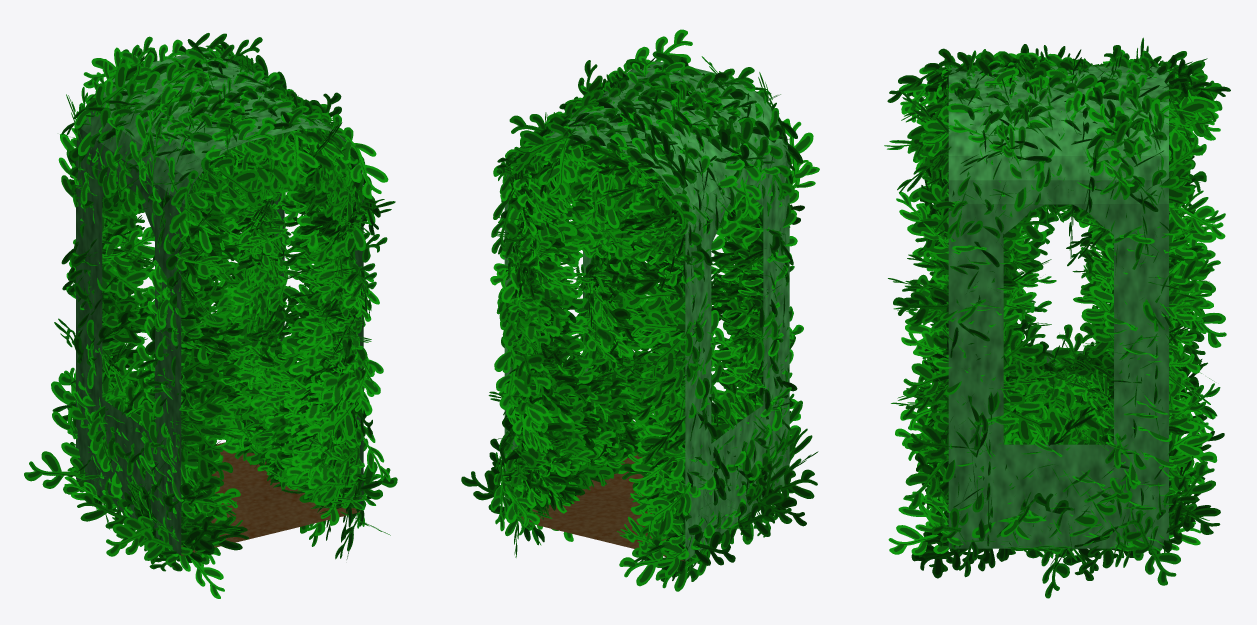
The model's file is StraightV2_3.fbx.
3 renders of one model, left to right at view 1: azimuth 30°, elevation 25°; view 2: azimuth 150°, elevation 25°; view 3: azimuth 270°, elevation 25°, orthographic. The views are drawn at different scales.
Parts seen in each view (by area): view 1: StraightV2.3, StraightV2.3|Plane|Dupli|46, StraightV2.3|Plane|Dupli|1686, StraightV2.3|Plane|Dupli|1282, StraightV2.3|Plane|Dupli|744, StraightV2.3|Plane|Dupli|859, StraightV2.3|Plane|Dupli|1788, StraightV2.3|Plane|Dupli|37, StraightV2.3|Plane|Dupli|764, StraightV2.3|Plane|Dupli|26, StraightV2.3|Plane|Dupli|1685, StraightV2.3|Plane|Dupli|361 (+37 smaller); view 2: StraightV2.3, StraightV2.3|Plane|Dupli|507, StraightV2.3|Plane|Dupli|212, StraightV2.3|Plane|Dupli|850, StraightV2.3|Plane|Dupli|1756, StraightV2.3|Plane|Dupli|497, StraightV2.3|Plane|Dupli|1753, StraightV2.3|Plane|Dupli|808, StraightV2.3|Plane|Dupli|851, StraightV2.3|Plane|Dupli|1376, StraightV2.3|Plane|Dupli|710, StraightV2.3|Plane|Dupli|1979 (+28 smaller); view 3: StraightV2.3, StraightV2.3|Plane|Dupli|917, StraightV2.3|Plane|Dupli|83, StraightV2.3|Plane|Dupli|318, StraightV2.3|Plane|Dupli|1979, StraightV2.3|Plane|Dupli|161, StraightV2.3|Plane|Dupli|41, StraightV2.3|Plane|Dupli|902, StraightV2.3|Plane|Dupli|1418, StraightV2.3|Plane|Dupli|1659, StraightV2.3|Plane|Dupli|116, StraightV2.3|Plane|Dupli|981 (+39 smaller).
Boxes of the visible parts, left/top/right/bottom form: StraightV2.3: left=76, top=51, right=363, bottom=555; StraightV2.3|Plane|Dupli|46: left=24, top=451, right=85, bottom=494; StraightV2.3|Plane|Dupli|1686: left=206, top=157, right=262, bottom=205; StraightV2.3|Plane|Dupli|1282: left=340, top=137, right=388, bottom=198; StraightV2.3|Plane|Dupli|744: left=176, top=433, right=232, bottom=481; StraightV2.3|Plane|Dupli|859: left=102, top=228, right=154, bottom=267; StraightV2.3|Plane|Dupli|1788: left=280, top=130, right=318, bottom=179; StraightV2.3|Plane|Dupli|37: left=106, top=516, right=157, bottom=556; StraightV2.3|Plane|Dupli|764: left=97, top=264, right=149, bottom=303; StraightV2.3|Plane|Dupli|26: left=77, top=493, right=130, bottom=528; StraightV2.3|Plane|Dupli|1685: left=169, top=178, right=203, bottom=243; StraightV2.3|Plane|Dupli|361: left=170, top=340, right=227, bottom=387; StraightV2.3: left=504, top=61, right=789, bottom=561; StraightV2.3|Plane|Dupli|507: left=619, top=539, right=687, bottom=586; StraightV2.3|Plane|Dupli|212: left=494, top=349, right=531, bottom=409; StraightV2.3|Plane|Dupli|850: left=643, top=321, right=692, bottom=377; StraightV2.3|Plane|Dupli|1756: left=514, top=122, right=576, bottom=164; StraightV2.3|Plane|Dupli|497: left=639, top=482, right=691, bottom=534; StraightV2.3|Plane|Dupli|1753: left=539, top=139, right=583, bottom=199; StraightV2.3|Plane|Dupli|808: left=628, top=309, right=695, bottom=348; StraightV2.3|Plane|Dupli|851: left=625, top=277, right=691, bottom=313; StraightV2.3|Plane|Dupli|1376: left=651, top=172, right=696, bottom=228; StraightV2.3|Plane|Dupli|710: left=629, top=456, right=685, bottom=492; StraightV2.3|Plane|Dupli|1979: left=491, top=194, right=522, bottom=253; StraightV2.3: left=948, top=66, right=1168, bottom=548; StraightV2.3|Plane|Dupli|917: left=904, top=454, right=955, bottom=509; StraightV2.3|Plane|Dupli|83: left=1003, top=393, right=1055, bottom=443; StraightV2.3|Plane|Dupli|318: left=893, top=288, right=958, bottom=326; StraightV2.3|Plane|Dupli|1979: left=1169, top=197, right=1225, bottom=239; StraightV2.3|Plane|Dupli|161: left=903, top=357, right=961, bottom=397; StraightV2.3|Plane|Dupli|41: left=888, top=521, right=948, bottom=555; StraightV2.3|Plane|Dupli|902: left=1163, top=461, right=1215, bottom=514; StraightV2.3|Plane|Dupli|1418: left=913, top=200, right=967, bottom=250; StraightV2.3|Plane|Dupli|1659: left=1151, top=88, right=1211, bottom=136; StraightV2.3|Plane|Dupli|116: left=1003, top=324, right=1045, bottom=371; StraightV2.3|Plane|Dupli|981: left=907, top=425, right=976, bottom=458.
Bounding box in the file's own units: 192 × 313 × 202.
